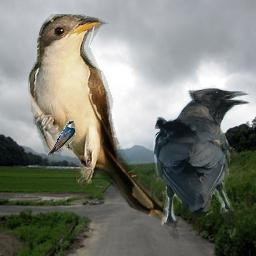Crow: (153, 83, 251, 239)
Cuckoo: (28, 14, 181, 235)
Swallow: (46, 119, 77, 156)
